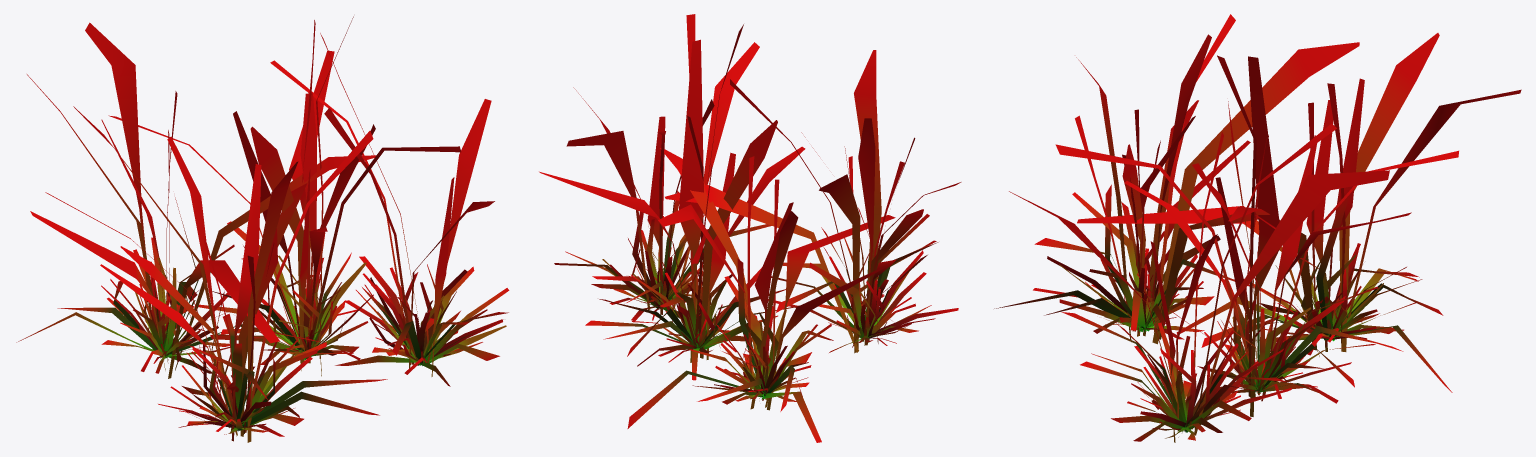
Rendered from Var3_LOD2.fbx.
3 renders of one model, left to right at view 1: azimuth 30°, elevation 25°; view 2: azimuth 150°, elevation 25°; view 3: azimuth 270°, elevation 25°, orthographic. The views are drawn at different scales.
Visible parts, largest first — view 1: _f80e_Var3_LOD2; view 2: _f80e_Var3_LOD2; view 3: _f80e_Var3_LOD2.
Part boxes in pixels (<box>): _f80e_Var3_LOD2: <box>16,16,509,442</box>; _f80e_Var3_LOD2: <box>539,14,961,442</box>; _f80e_Var3_LOD2: <box>994,14,1521,442</box>.
Size of the model in its own units: 119 by 92.88 by 121.
